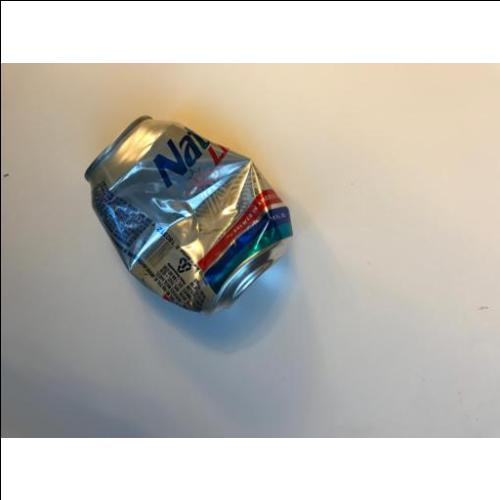metal: (86, 116, 293, 312)
